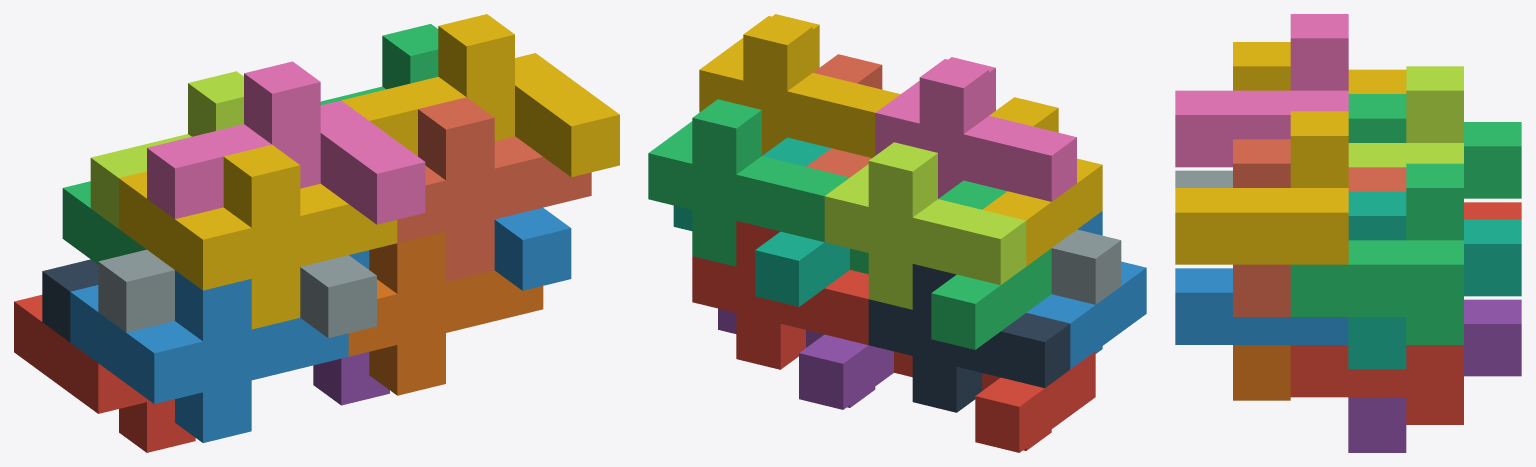
Rendered from tiling.obj.
3 views of the same model, side by side, from view 1: azimuth 30°, elevation 25°; view 2: azimuth 150°, elevation 25°; view 3: azimuth 270°, elevation 25° (orthographic). The views are drawn at different scales.
Parts seen in each view (by area): view 1: copy_1_domain_4, copy_1_domain_2, copy_2_domain_4, copy_2_domain_8, copy_1_domain_8, copy_1_domain_6, copy_2_domain_2, copy_1_domain_1, copy_2_domain_3, copy_2_domain_6, copy_1_domain_3, copy_2_domain_7 (+2 smaller); view 2: copy_2_domain_3, copy_2_domain_7, copy_2_domain_4, copy_2_domain_8, copy_2_domain_1, copy_2_domain_5, copy_1_domain_3, copy_1_domain_1, copy_1_domain_7, copy_1_domain_4, copy_1_domain_5, copy_1_domain_2 (+2 smaller); view 3: copy_2_domain_7, copy_2_domain_8, copy_2_domain_4, copy_1_domain_7, copy_2_domain_5, copy_1_domain_5, copy_2_domain_6, copy_1_domain_8, copy_1_domain_3, copy_2_domain_3, copy_1_domain_4, copy_1_domain_6 (+2 smaller).
Part boxes in pixels (x1,y1,x2,y2): copy_1_domain_4: (119,145,397,329); copy_1_domain_2: (70,270,348,442); copy_2_domain_4: (147,61,425,224); copy_2_domain_8: (341,14,619,177); copy_1_domain_8: (397,97,591,281); copy_1_domain_6: (348,231,543,395); copy_2_domain_2: (98,249,376,338); copy_1_domain_1: (14,295,195,452); copy_2_domain_3: (90,71,243,228); copy_2_domain_6: (349,207,571,290); copy_1_domain_3: (62,181,146,264); copy_2_domain_7: (320,24,438,105); copy_2_domain_3: (824,142,1026,309); copy_2_domain_7: (648,99,849,266); copy_2_domain_4: (875,57,1076,201); copy_2_domain_8: (699,14,900,157); copy_2_domain_1: (868,264,1070,412); copy_2_domain_5: (692,221,868,369); copy_1_domain_3: (850,180,1051,349); copy_1_domain_1: (894,351,1095,452); copy_1_domain_7: (673,137,849,306); copy_1_domain_4: (982,97,1102,266); copy_1_domain_5: (718,308,893,409); copy_1_domain_2: (1026,211,1146,369); copy_2_domain_7: (1290,163,1463,344); copy_2_domain_8: (1175,111,1348,264); copy_2_domain_4: (1175,14,1348,167); copy_1_domain_7: (1348,191,1521,369); copy_2_domain_5: (1290,345,1463,424); copy_1_domain_5: (1348,299,1521,452); copy_2_domain_6: (1175,268,1348,344); copy_1_domain_8: (1233,139,1406,316); copy_1_domain_3: (1348,94,1521,198); copy_2_domain_3: (1348,66,1463,167); copy_1_domain_4: (1233,42,1406,93); copy_1_domain_6: (1233,345,1290,400).
Size of the model in its own units: 9 by 7 by 6.
